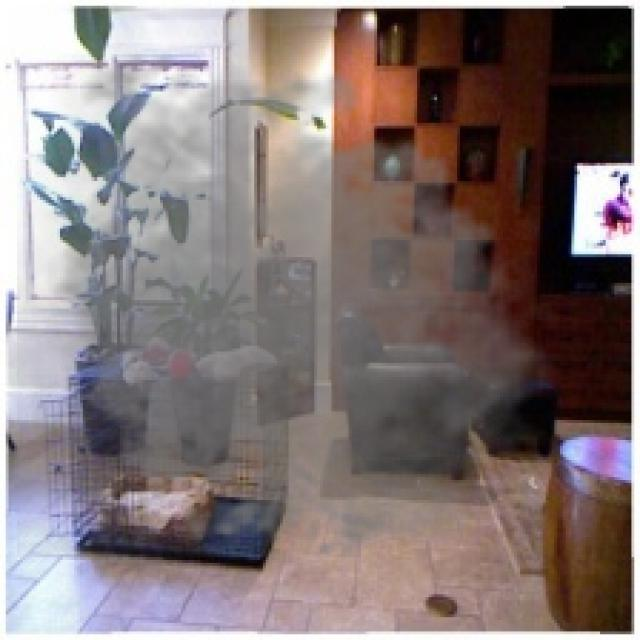smoke: (17, 37, 574, 569)
